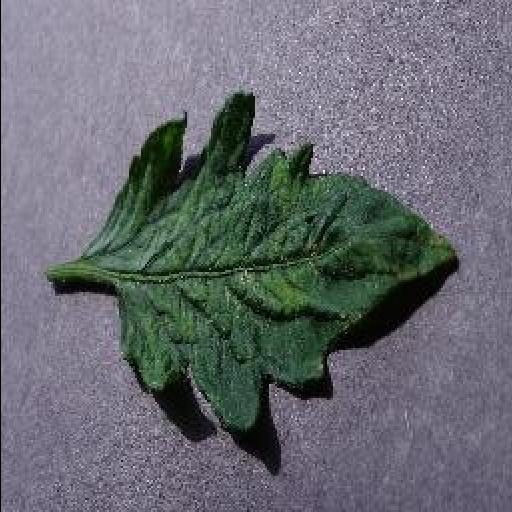disease_tomato: (82, 90, 466, 434)
